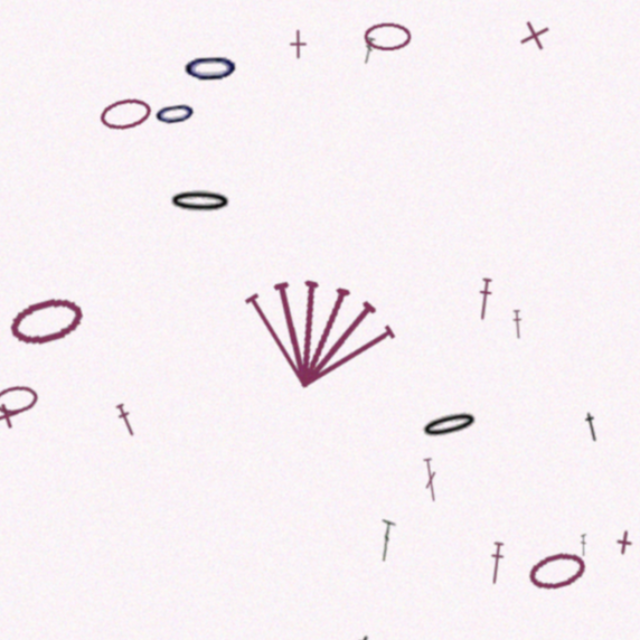chain: (40, 285, 114, 340), (505, 514, 562, 556), (197, 65, 252, 105), (409, 388, 467, 422), (123, 109, 174, 145), (185, 193, 245, 218), (171, 109, 214, 143), (28, 367, 72, 397), (361, 45, 404, 70)
double: (412, 434, 430, 474), (372, 489, 390, 527), (359, 58, 372, 83), (555, 502, 560, 522)
fan: (237, 251, 402, 389)
half_double: (342, 590, 373, 628), (137, 384, 160, 417), (470, 509, 489, 548), (460, 273, 478, 312), (555, 392, 575, 421), (493, 302, 504, 328)
single: (496, 39, 531, 74), (27, 382, 56, 411), (289, 51, 316, 78), (581, 497, 607, 523)
